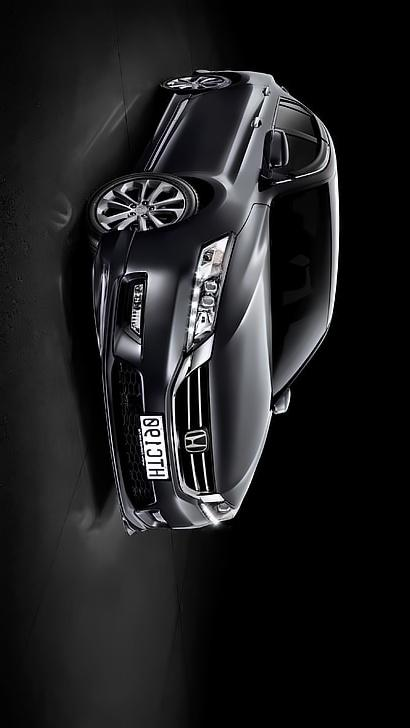Car hood: (215, 201, 272, 513)
Driver-s door - -F-R-: (122, 123, 337, 185)
Fender - -F-R-: (136, 169, 272, 238)
Front bumper: (86, 220, 212, 541)
Headlight - -L-: (198, 495, 238, 526)
Headlight - -R-: (184, 232, 238, 357)
Passenger-s door - -R-R-: (145, 89, 339, 145)
Side bumper - -R-: (122, 88, 206, 170)
Side mirror - -R-: (253, 127, 290, 190)
